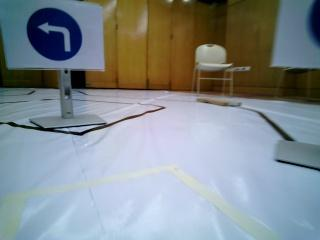left: (4, 4, 102, 69)
